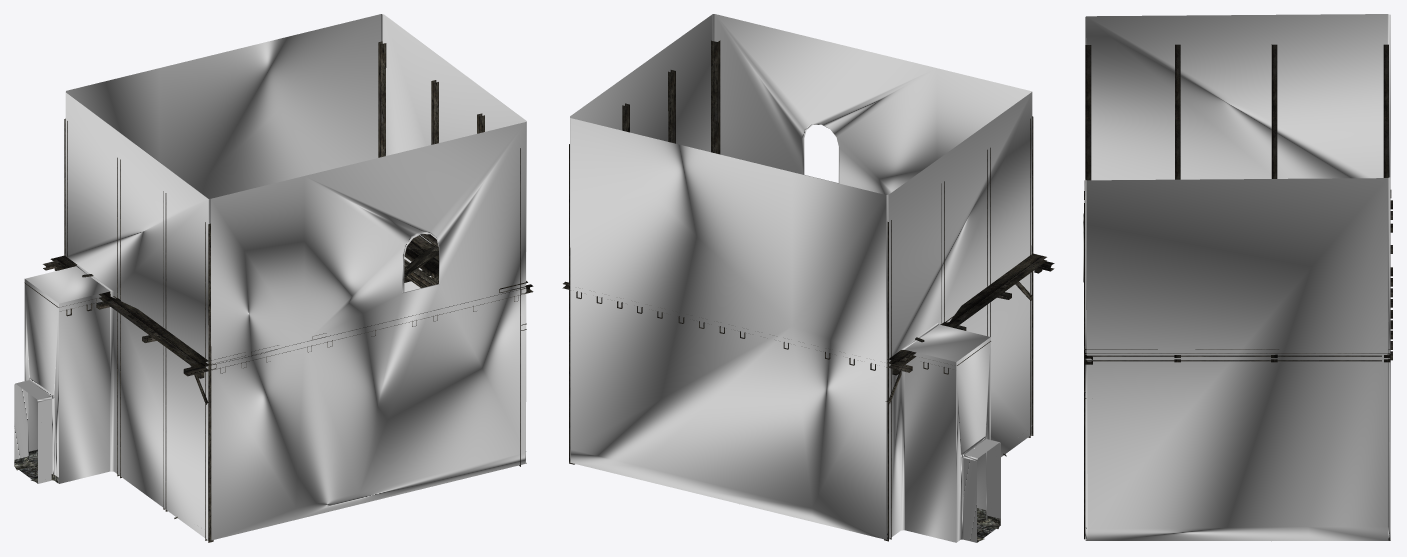
3 renders of one model, left to right at view 1: azimuth 30°, elevation 25°; view 2: azimuth 150°, elevation 25°; view 3: azimuth 270°, elevation 25°, orthographic. The views are drawn at different scales.
Parts seen in each view (by area): view 1: mesh0, mesh4, mesh2; view 2: mesh0, mesh4, mesh2; view 3: mesh0, mesh4, mesh2.
Boxes of the visible parts, x1=… form: mesh0: x1=14, y1=14, x2=526, y2=540; mesh4: x1=43, y1=41, x2=529, y2=542; mesh2: x1=24, y1=234, x2=533, y2=376; mesh0: x1=570, y1=14, x2=1032, y2=542; mesh4: x1=562, y1=40, x2=1042, y2=541; mesh2: x1=569, y1=253, x2=1054, y2=366; mesh0: x1=1083, y1=14, x2=1390, y2=540; mesh4: x1=1084, y1=44, x2=1392, y2=539; mesh2: x1=1084, y1=180, x2=1389, y2=364.
Bounding box in the file's own units: 11.52 × 9.65 × 7.38.
